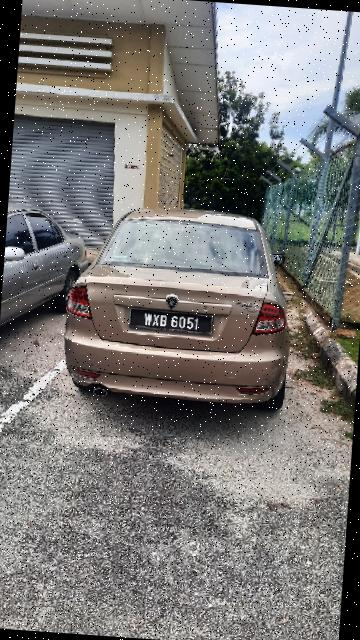License_Plate: (126, 304, 218, 342)
car: (56, 194, 307, 423)
